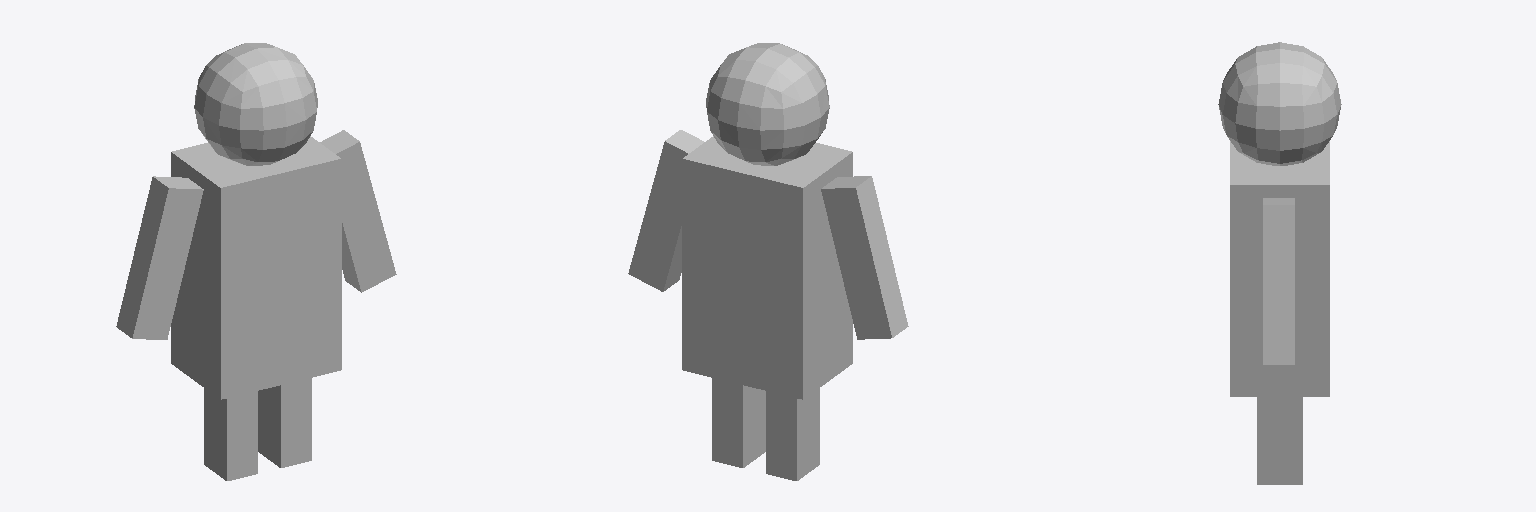
File: player.obj
3 renders of one model, left to right at view 1: azimuth 30°, elevation 25°; view 2: azimuth 150°, elevation 25°; view 3: azimuth 270°, elevation 25°, orthographic.
Parts seen in each view (by area): view 1: Cube; view 2: Cube; view 3: Cube.
Boxes of the visible parts, x1=… form: Cube: x1=116, y1=43, x2=396, y2=480; Cube: x1=628, y1=43, x2=908, y2=480; Cube: x1=1218, y1=42, x2=1341, y2=484.
Bounding box in the file's own units: 1.12 × 1.67 × 0.4506.